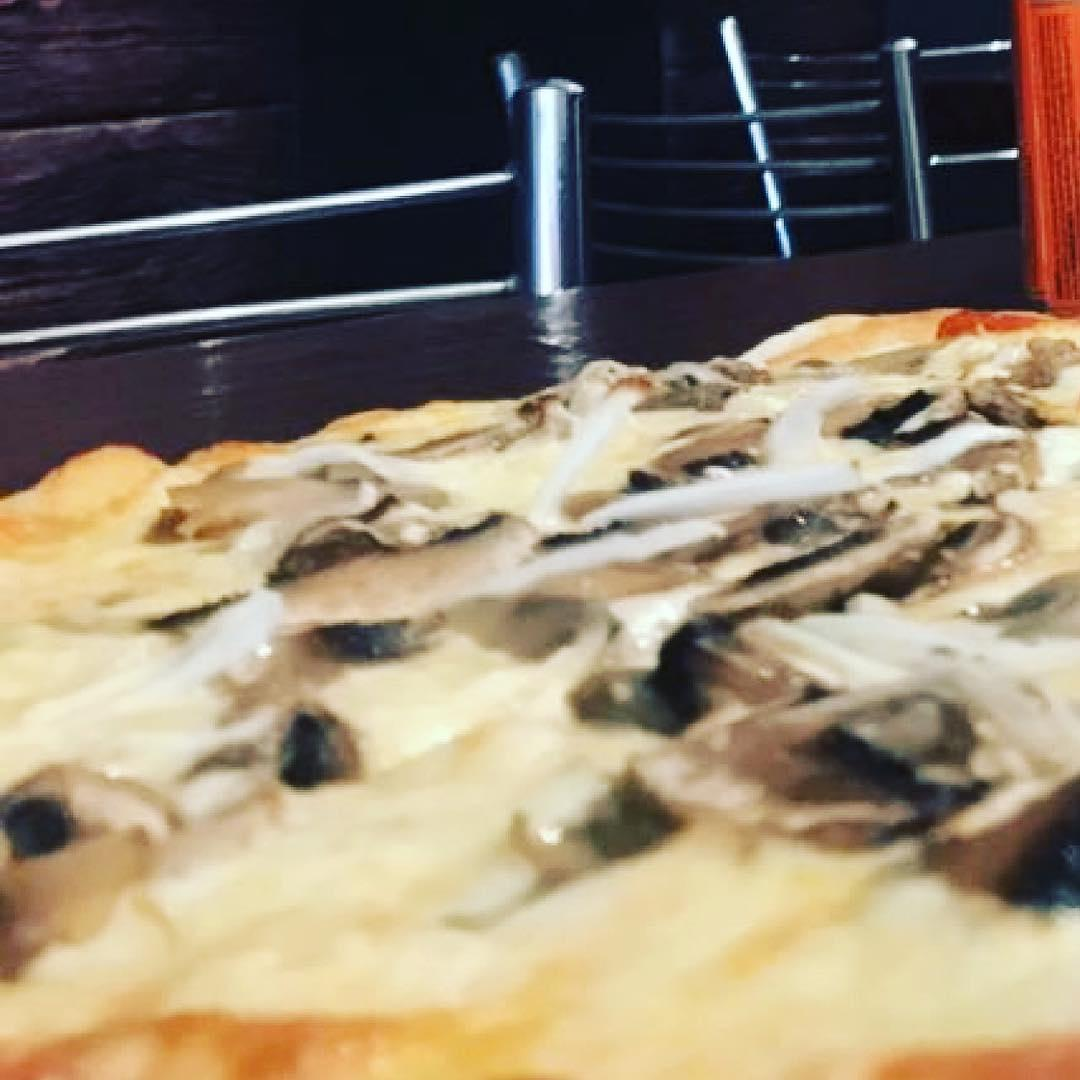Cheese: (219, 805, 630, 1041), (669, 919, 1080, 1049), (9, 537, 233, 748), (13, 897, 188, 1057), (395, 673, 597, 785), (442, 409, 628, 484)
Mushroom: (640, 698, 1080, 902), (725, 443, 1041, 512), (718, 522, 943, 618), (270, 497, 503, 577), (0, 767, 178, 858), (633, 617, 809, 705), (828, 385, 1080, 443), (539, 533, 744, 600), (447, 593, 612, 674), (275, 698, 373, 780), (638, 422, 767, 482), (297, 608, 433, 660), (969, 571, 1080, 634)
Pizza: (0, 315, 1080, 1080)
